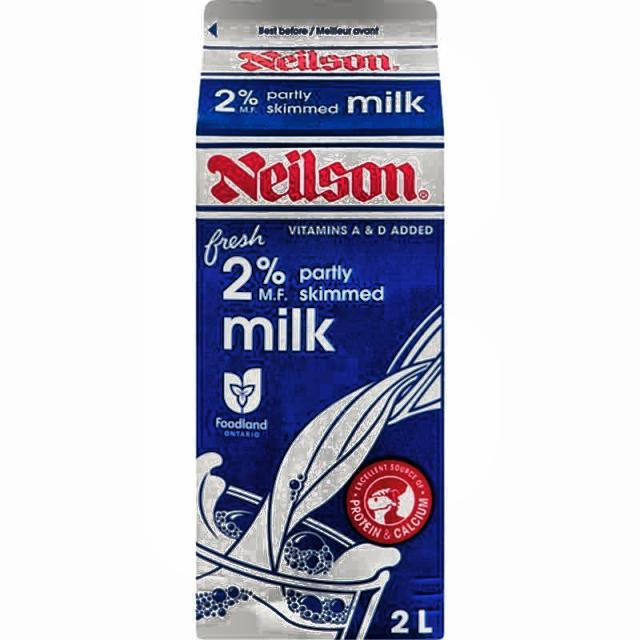cardboard: (194, 0, 446, 638)
